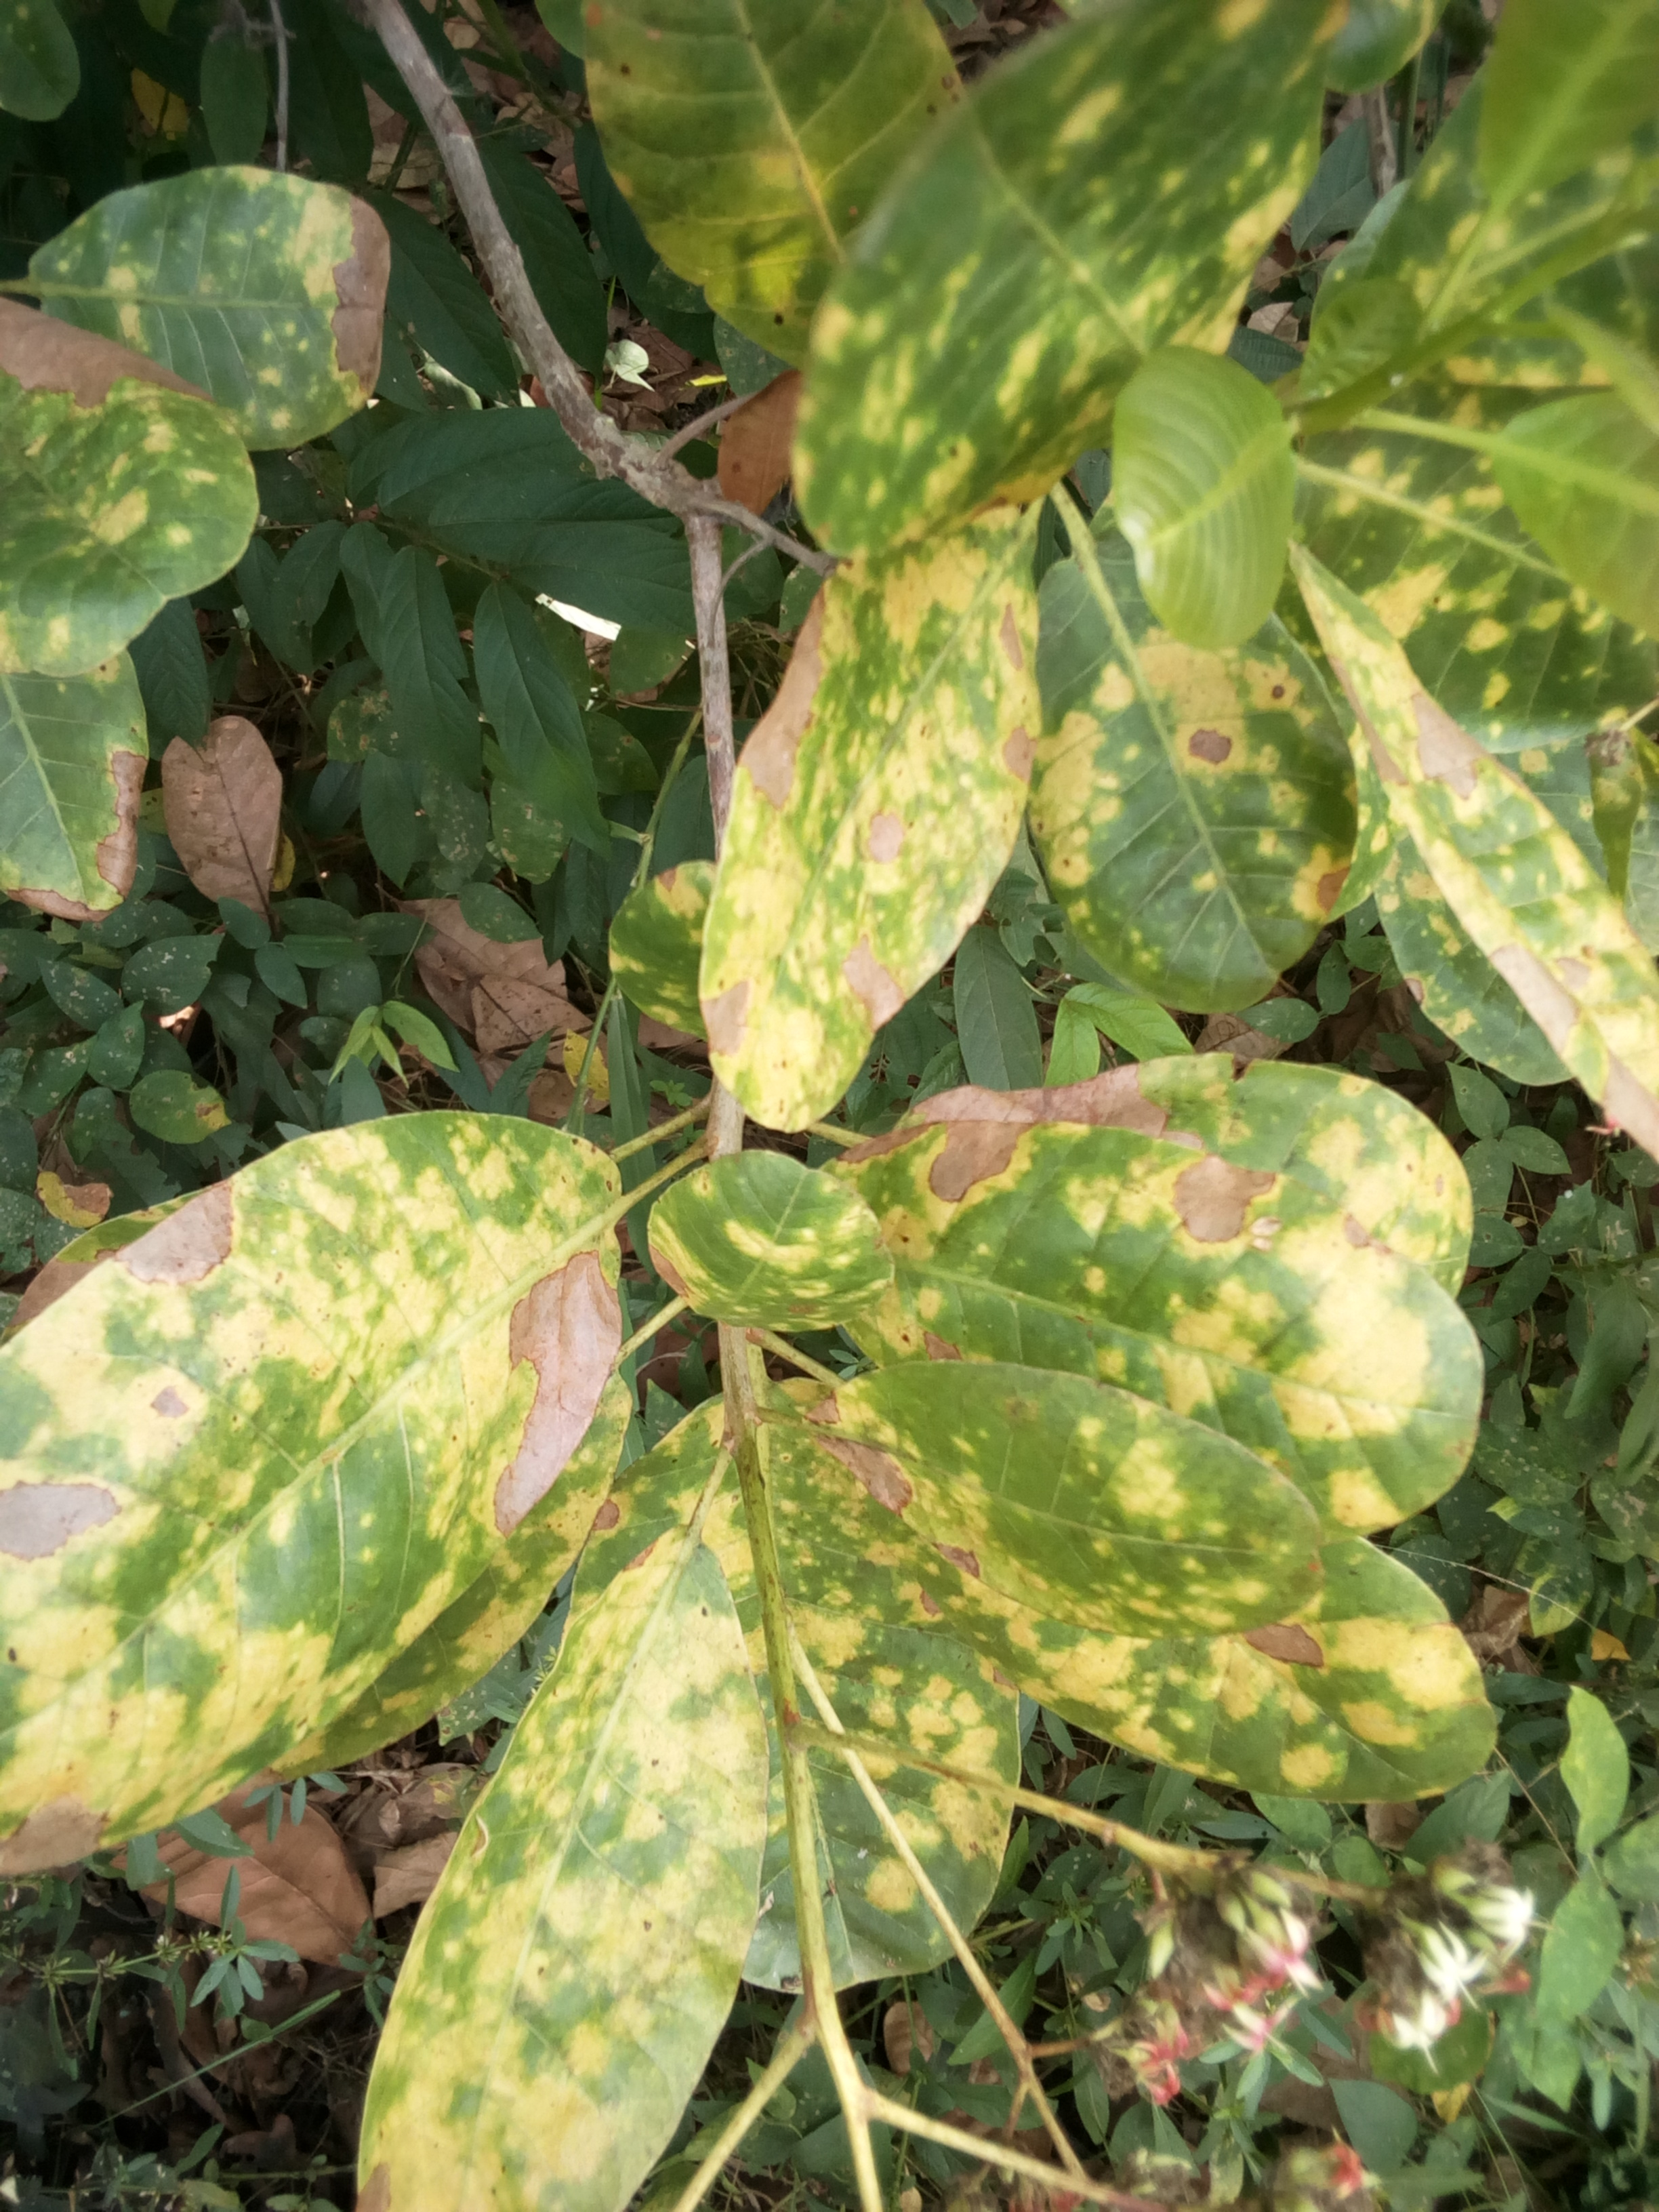Carence minérale: (3, 1035, 640, 1851), (748, 0, 1368, 533), (349, 1543, 796, 2212), (877, 1130, 1483, 1522), (1310, 554, 1659, 1174), (690, 561, 1053, 1127), (1026, 486, 1364, 1045), (542, 0, 1042, 376), (826, 1357, 1345, 1641), (1368, 0, 1659, 503), (33, 157, 413, 435), (9, 317, 277, 686)
